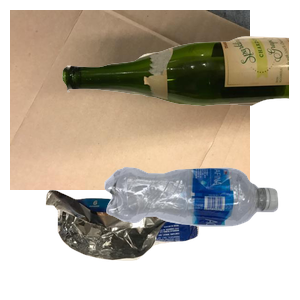cardboard: (10, 10, 250, 190)
glass: (60, 34, 300, 133)
plastic: (102, 165, 300, 300)
trash: (43, 187, 234, 300)
